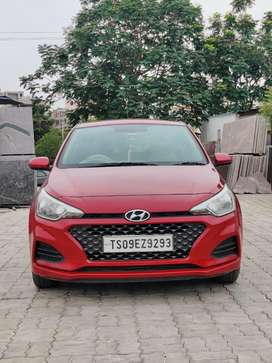TS09EZ9293: (103, 234, 172, 253)
